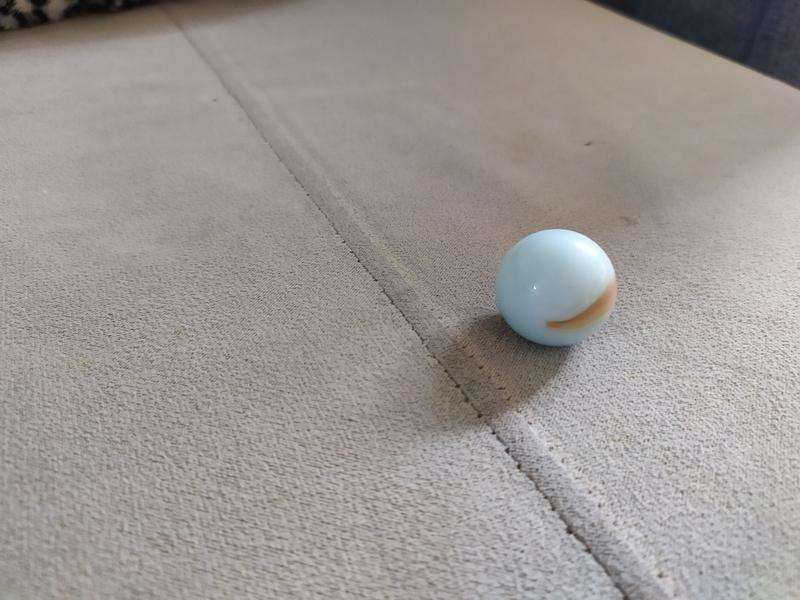Warning: (492, 225, 621, 350)
